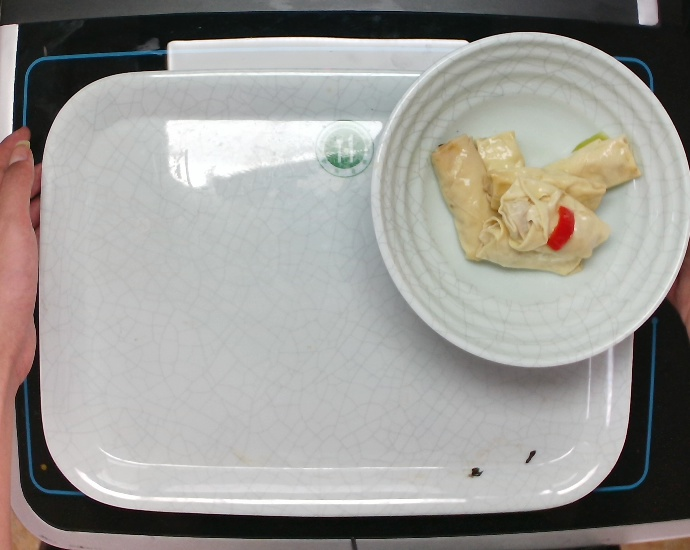JYsf-Da_Tang_Wan: (364, 29, 690, 373)
